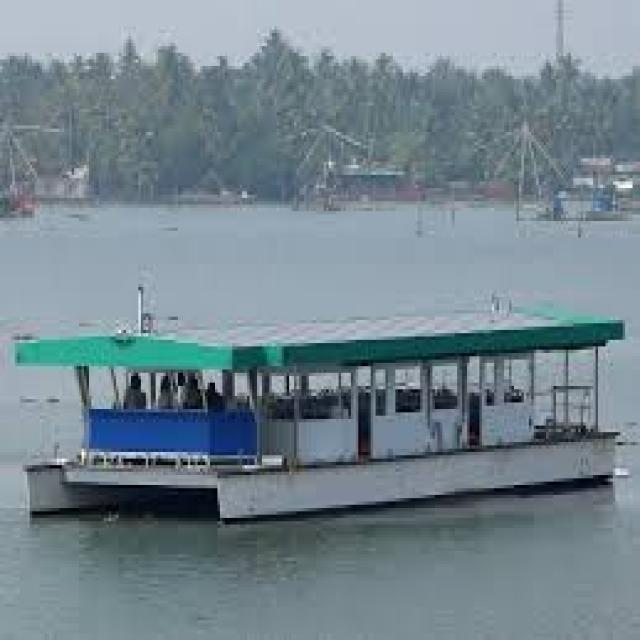houseboat: (0, 285, 640, 533)
